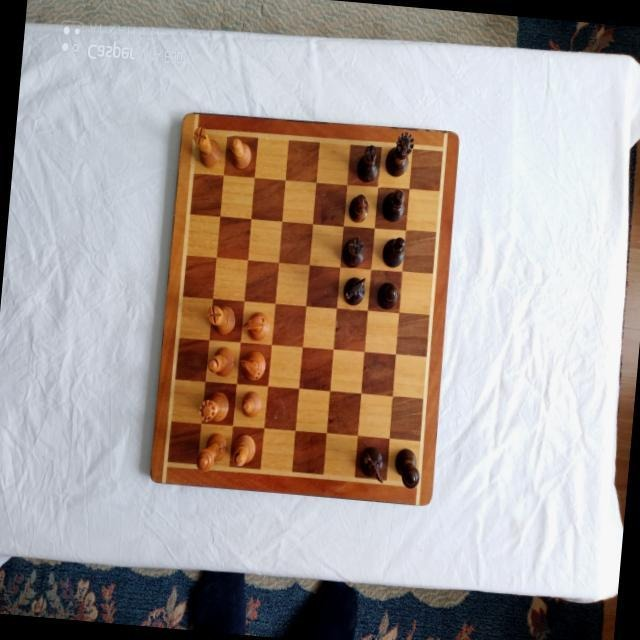black-bishop: (380, 186, 407, 222), (380, 234, 407, 268)
black-king: (392, 447, 422, 489)
black-knight: (358, 444, 386, 484), (340, 273, 365, 306)
black-pawn: (346, 192, 369, 224), (375, 279, 399, 309)
black-queen: (384, 129, 416, 178)
black-rook: (355, 142, 380, 182), (340, 235, 366, 269)
white-bishop: (230, 433, 257, 469), (207, 344, 235, 377)
white-king: (194, 430, 228, 474)
white-knight: (238, 348, 266, 383), (240, 310, 270, 342)
white-pawn: (226, 138, 253, 170), (241, 389, 263, 419)
white-queen: (196, 388, 229, 424)
white-rook: (189, 126, 223, 169), (205, 303, 237, 335)
